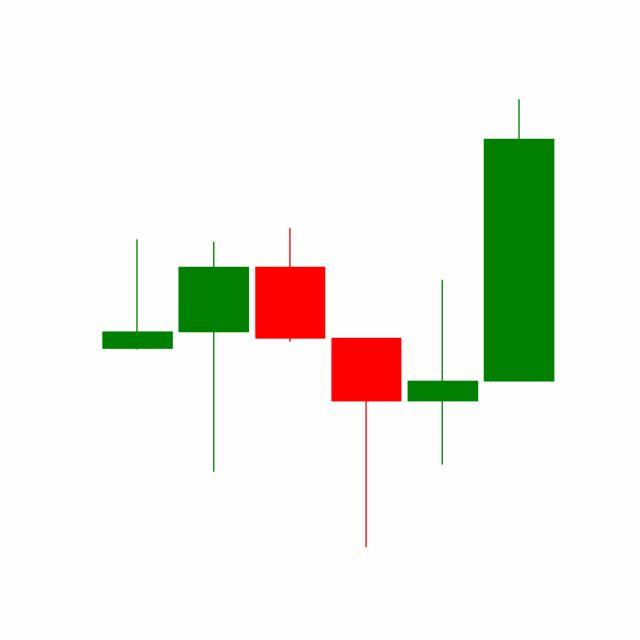Spinning Top: (404, 278, 482, 468)
